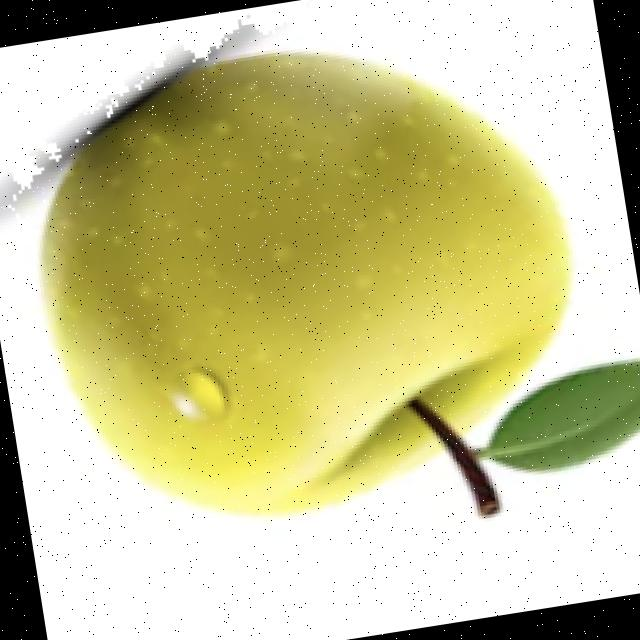apple: (0, 13, 640, 524)
